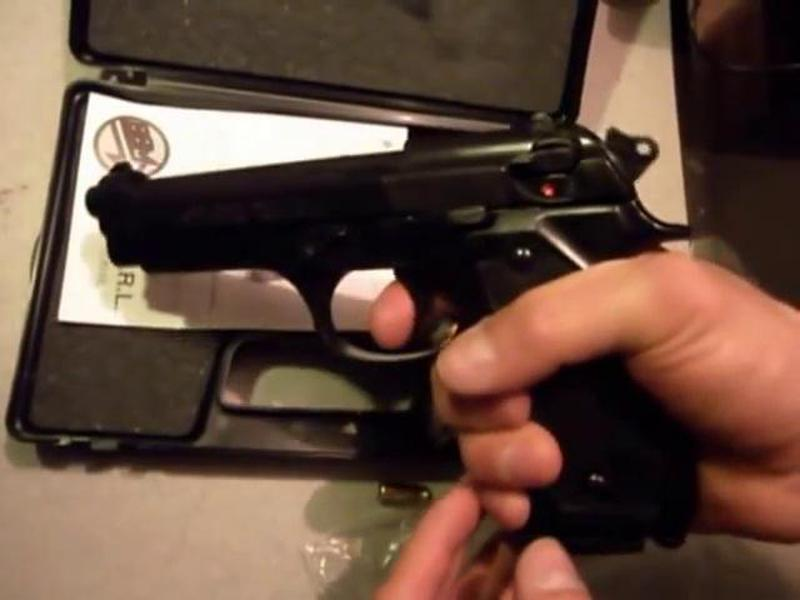Pistola: (99, 101, 715, 554)
